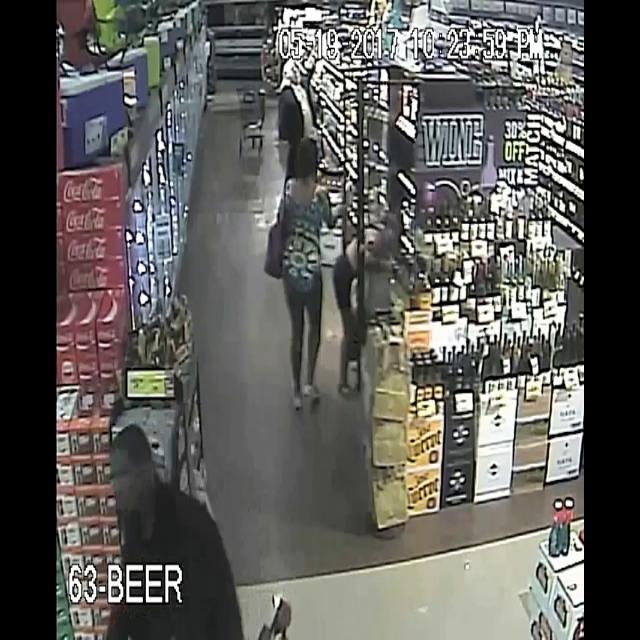normal: (68, 376, 267, 640), (253, 119, 346, 430), (268, 49, 322, 128)
shoplifting: (332, 196, 408, 372)
